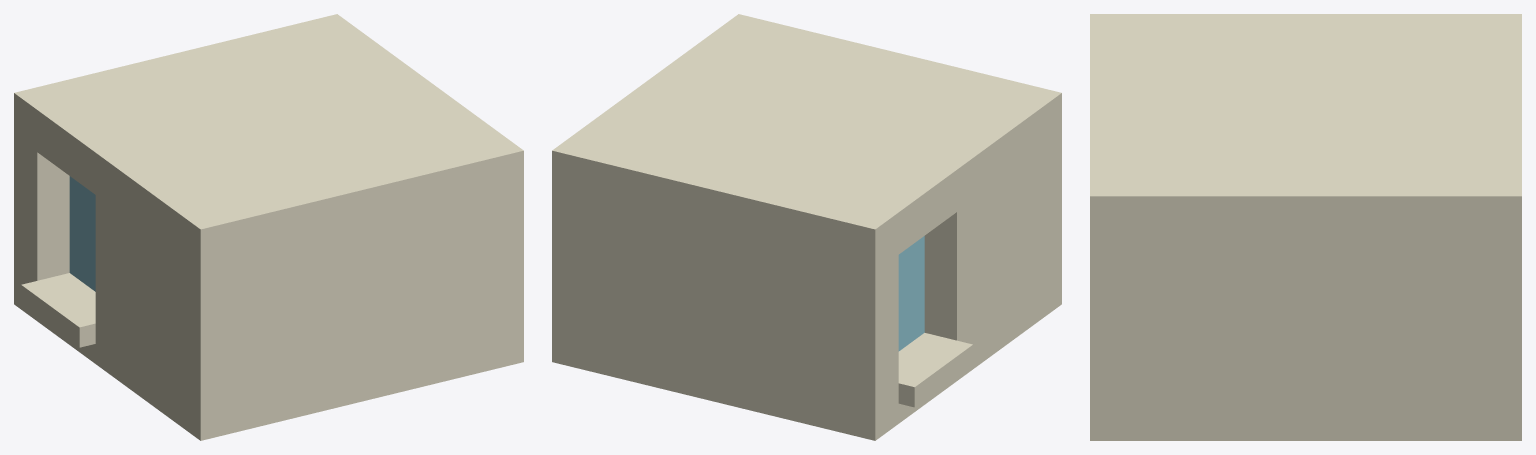
File: modularBuildings_062.obj
3 views of the same model, side by side, from view 1: azimuth 30°, elevation 25°; view 2: azimuth 150°, elevation 25°; view 3: azimuth 270°, elevation 25° (orthographic). The views are drawn at different scales.
Visible parts, largest first — view 1: Mesh1 Group1 Model; view 2: Mesh1 Group1 Model; view 3: Mesh1 Group1 Model.
Part boxes in pixels (left/top/right/bottom): Mesh1 Group1 Model: left=14, top=14, right=523, bottom=440; Mesh1 Group1 Model: left=552, top=14, right=1061, bottom=440; Mesh1 Group1 Model: left=1090, top=14, right=1521, bottom=440.
Bounding box in the file's own units: 1.05 × 0.625 × 1.
